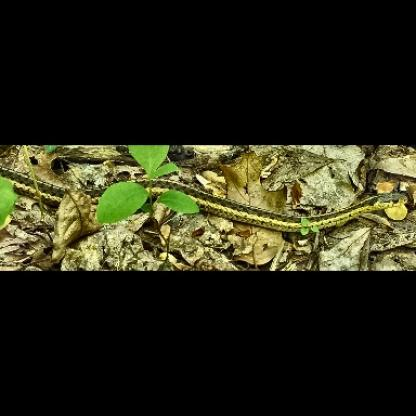Snake: (2, 157, 413, 237)
